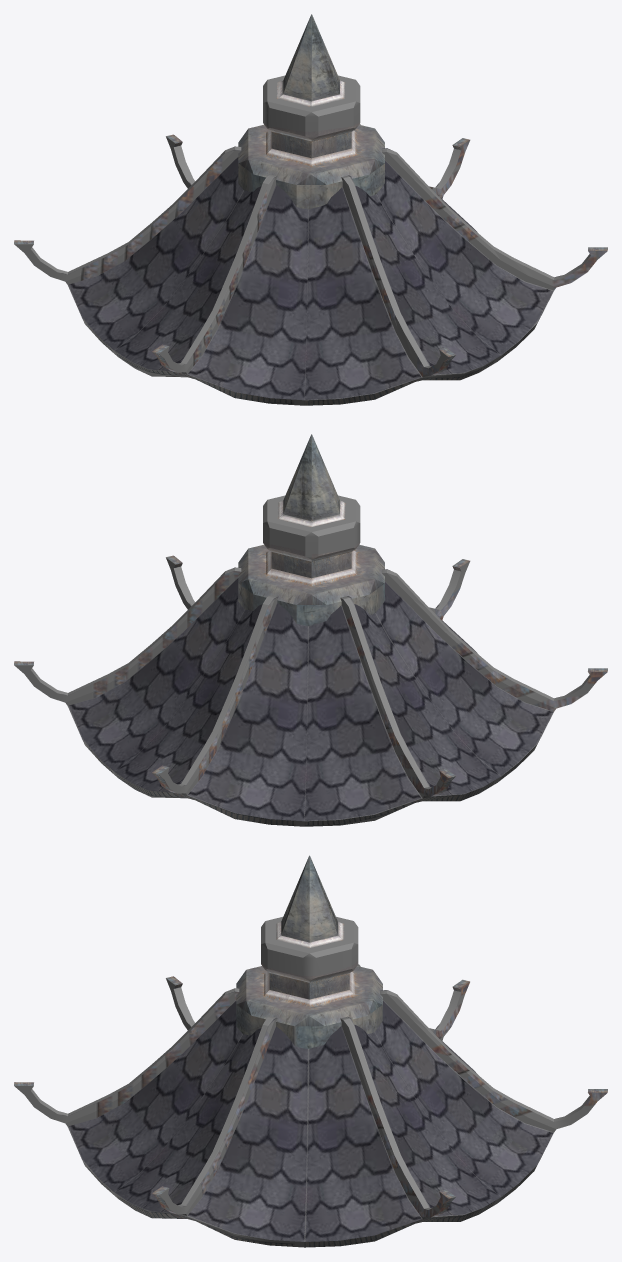
The model's file is roof.glb.
3 views of the same model, one above another, from view 1: azimuth 30°, elevation 25°; view 2: azimuth 150°, elevation 25°; view 3: azimuth 270°, elevation 25° (orthographic).
Parts seen in each view (by area): view 1: ROOF5_Low; view 2: ROOF5_Low; view 3: ROOF5_Low.
Boxes of the visible parts, left/top/right/bottom form: ROOF5_Low: left=14, top=14, right=607, bottom=405; ROOF5_Low: left=14, top=434, right=607, bottom=826; ROOF5_Low: left=14, top=855, right=607, bottom=1247.
Bounding box in the file's own units: 1216 × 763 × 1372.
1 material, 1 textured.
